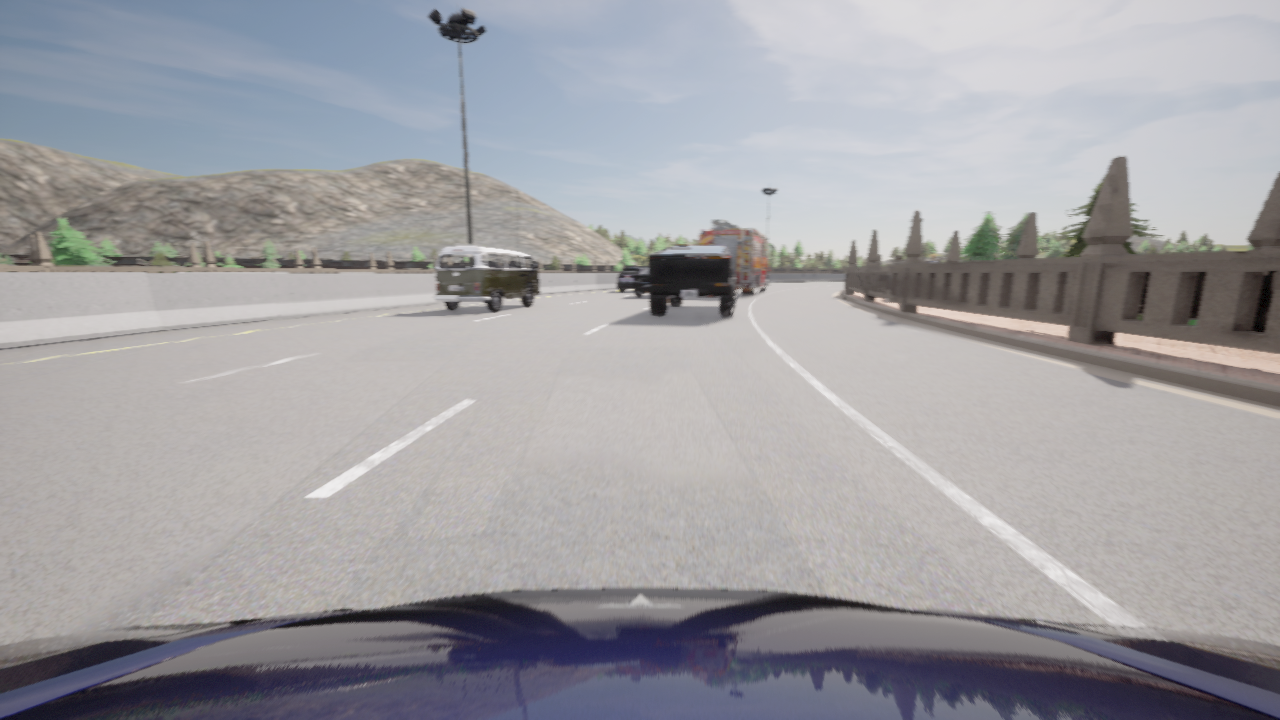cyclist: (0, 588, 1279, 719), (434, 246, 539, 311), (649, 245, 736, 316), (699, 220, 773, 296), (618, 267, 648, 291), (634, 269, 650, 296)
pedestrian: (926, 254, 939, 263), (892, 255, 903, 264), (901, 256, 903, 260)
